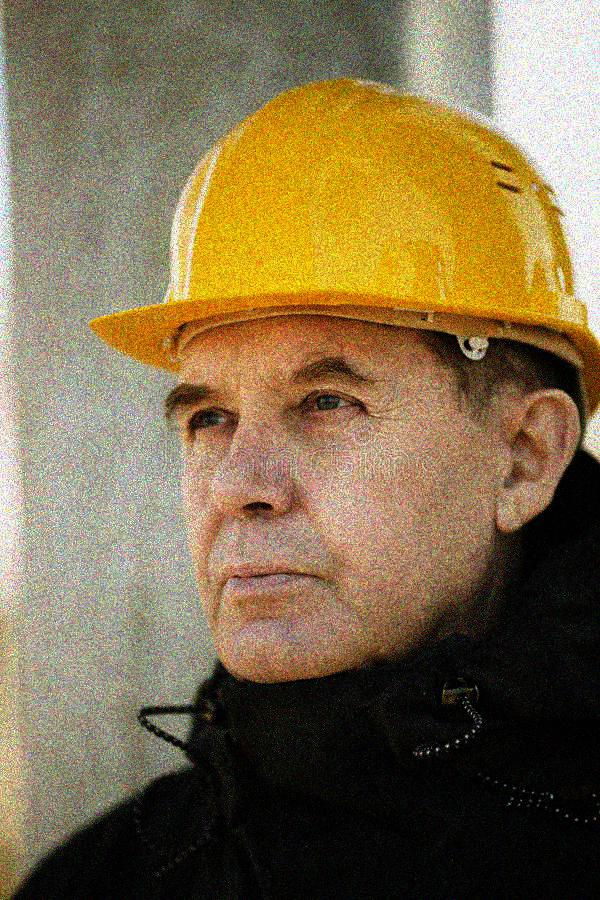helmet: (78, 74, 599, 688)
